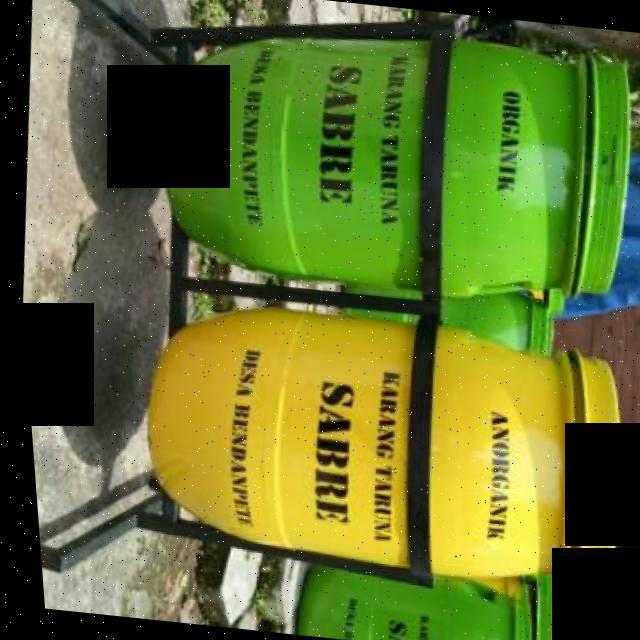bin: (87, 287, 640, 613), (115, 0, 640, 315)
